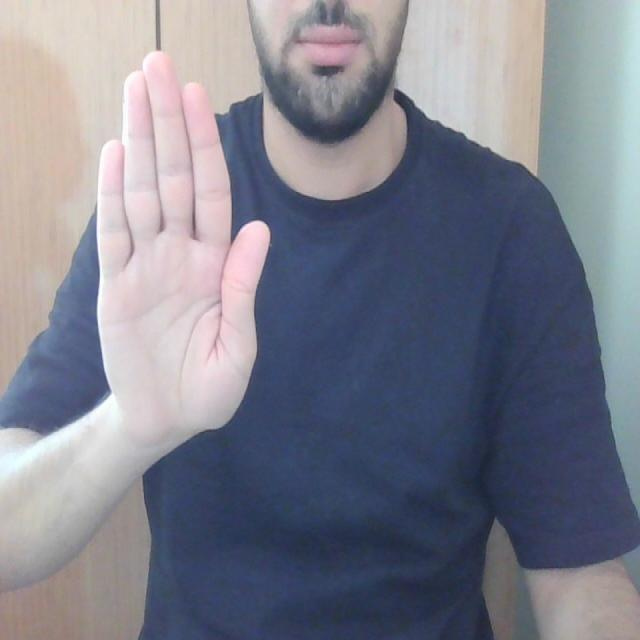Dur: (86, 50, 271, 452)
